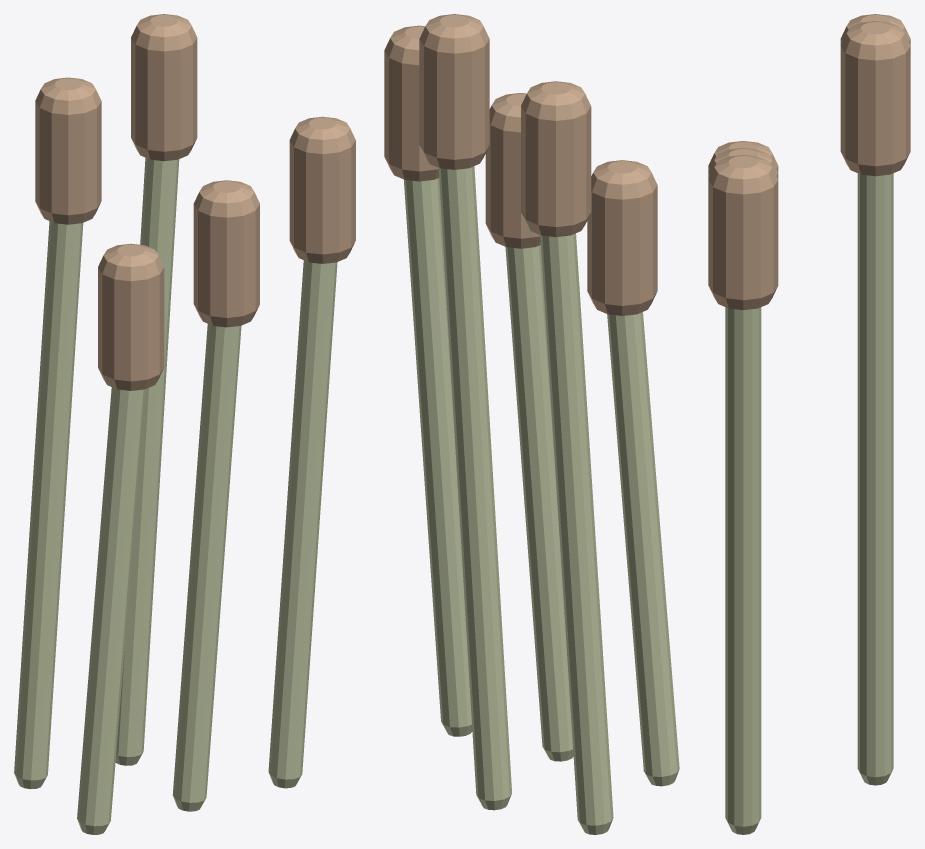
File: reeds.glb
3 views of the same model, side by side, from view 1: azimuth 30°, elevation 25°; view 2: azimuth 150°, elevation 25°; view 3: azimuth 270°, elevation 25° (orthographic). The views are drawn at different scales.
Visible parts, largest first — view 1: Sculpt__Reeds, Sculpt__Honey oak; view 2: Sculpt__Reeds, Sculpt__Honey oak; view 3: Sculpt__Reeds, Sculpt__Honey oak.
Part boxes in pixels (box(x1,y1,x2,y2)): Sculpt__Reeds: box(14, 157, 337, 834); Sculpt__Honey oak: box(35, 14, 355, 390); Sculpt__Reeds: box(403, 166, 679, 834); Sculpt__Honey oak: box(384, 14, 657, 315); Sculpt__Reeds: box(725, 173, 893, 834); Sculpt__Honey oak: box(708, 14, 910, 310).
Bounding box in the file's own units: 0.4264 × 1.1 × 0.26.
